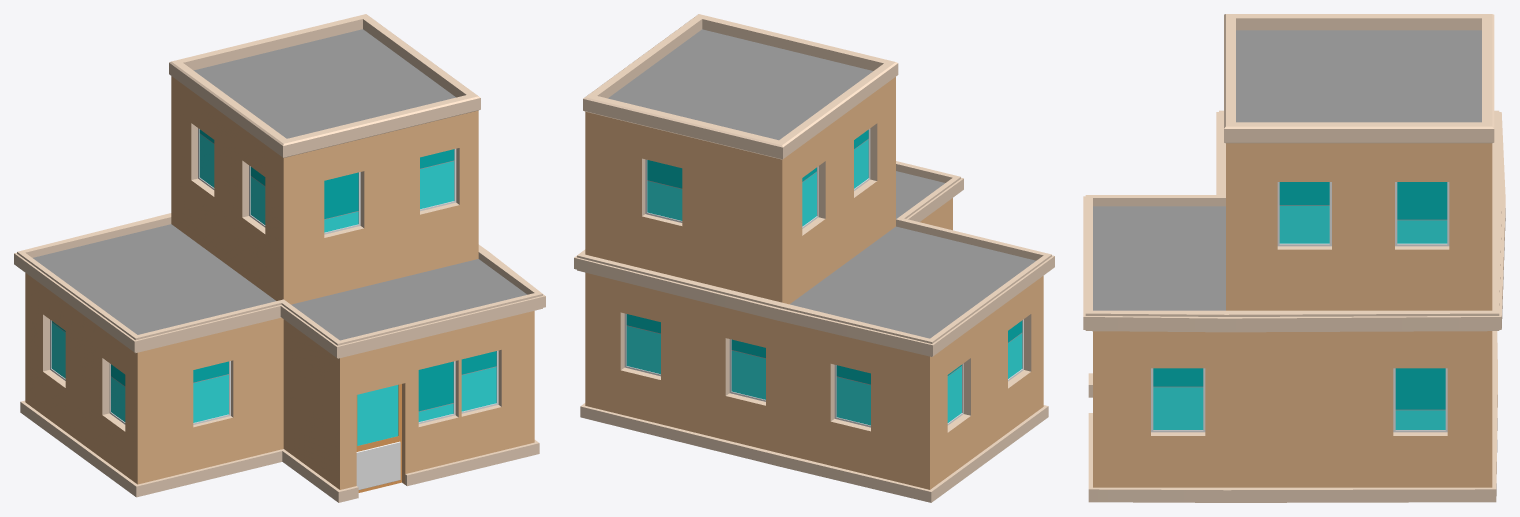
File: SM_House_06_01.FBX
3 renders of one model, left to right at view 1: azimuth 30°, elevation 25°; view 2: azimuth 150°, elevation 25°; view 3: azimuth 270°, elevation 25°, orthographic. The views are drawn at different scales.
Parts seen in each view (by area): view 1: SM_House_06_01; view 2: SM_House_06_01; view 3: SM_House_06_01.
Boxes of the visible parts, x1,y1,x2,y2 form: SM_House_06_01: (14, 14, 545, 502); SM_House_06_01: (574, 14, 1054, 502); SM_House_06_01: (1083, 14, 1505, 502).
Size of the model in its own units: 7.35 by 6.2 by 6.35.
1 material, 1 textured.
